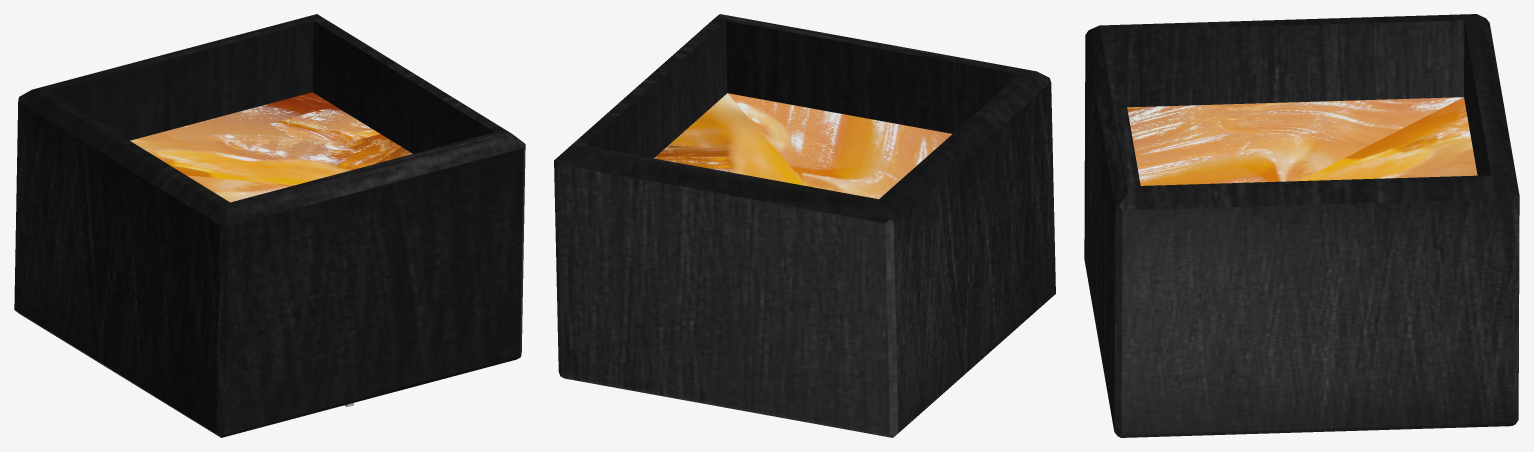
File: behälter _mit_fett.obj
3 renders of one model, left to right at view 1: azimuth 30°, elevation 25°; view 2: azimuth 150°, elevation 25°; view 3: azimuth 270°, elevation 25°, orthographic. The views are drawn at different scales.
Parts seen in each view (by area): view 1: behälter_mit_fett_v1; view 2: behälter_mit_fett_v1; view 3: behälter_mit_fett_v1.
Boxes of the visible parts, box(x1,y1,x2,y2) form: behälter_mit_fett_v1: box(14, 14, 525, 437); behälter_mit_fett_v1: box(554, 14, 1055, 437); behälter_mit_fett_v1: box(1084, 14, 1519, 437).
Bounding box in the file's own units: 97.54 × 62.13 × 96.58.
